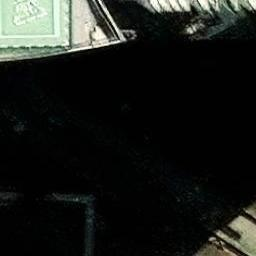heliponto: (0, 0, 57, 37)
